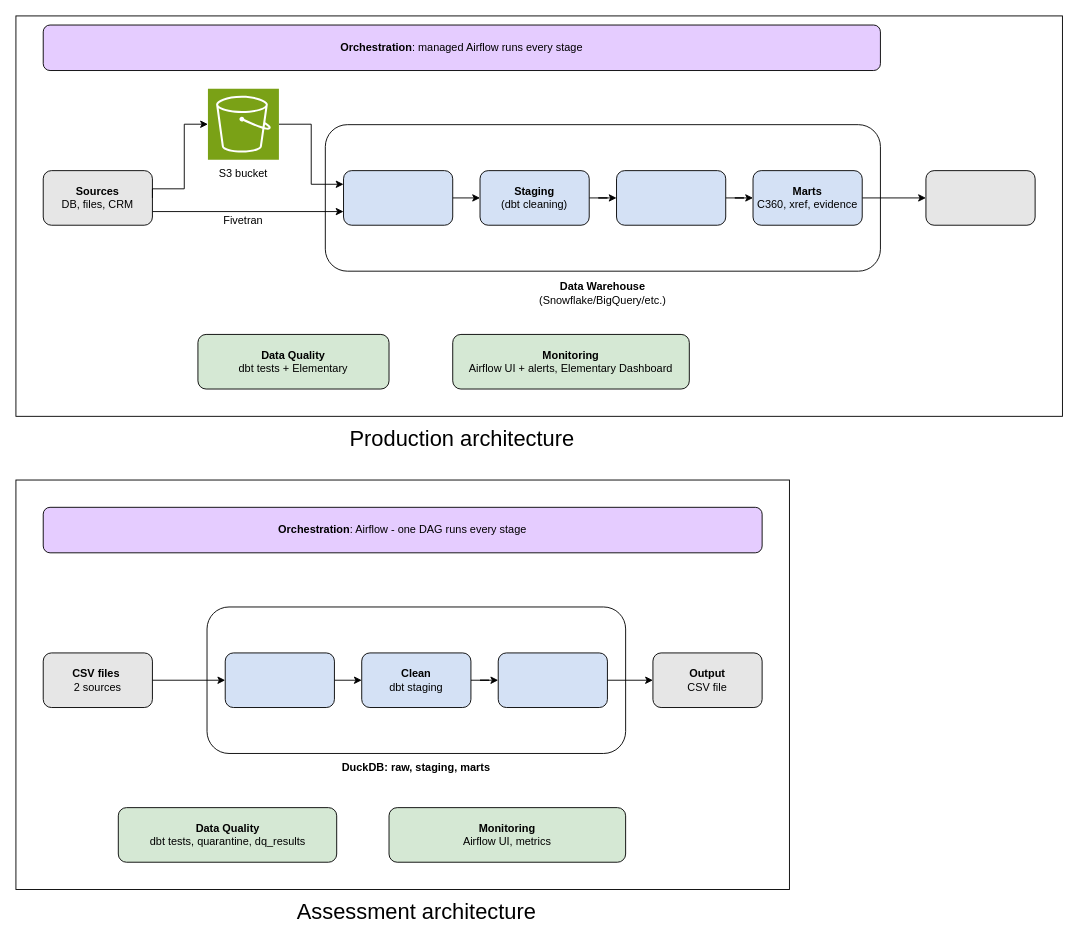
This 1078x942 diagram has some shape labels left out. The shapes that lost their labels are listed below. From the top down, each one's centre as x and y in pixels, then its label:
At point (398, 197): "Raw Layer (Snowflake RAW)".
At point (671, 197): "Identity resolution (dbt rules + Snowpark)".
At point (980, 197): "Consumption BI, SQL queries".
At point (279, 680): "Load Python, raw".
At point (552, 680): "Match dbt (SQL)".
